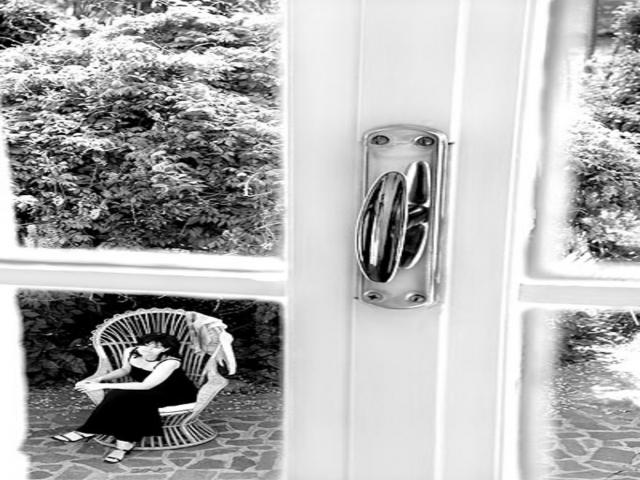Door-handle: (350, 122, 440, 313)
